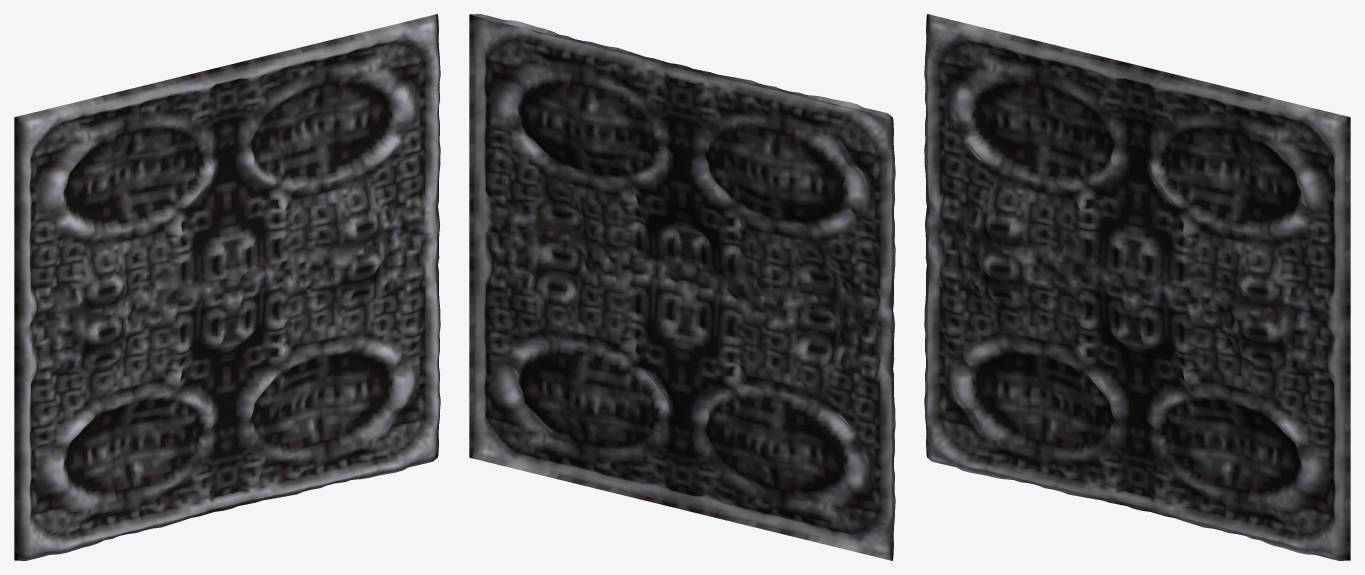
Rendered from bridg1_4.fbx.
3 views of the same model, side by side, from view 1: azimuth 30°, elevation 25°; view 2: azimuth 150°, elevation 25°; view 3: azimuth 330°, elevation 25° (orthographic).
Parts seen in each view (by area): view 1: bridg1_4_mesh; view 2: bridg1_4_mesh; view 3: bridg1_4_mesh.
Part boxes in pixels (left/top/right/bottom): bridg1_4_mesh: left=14, top=14, right=440, bottom=560; bridg1_4_mesh: left=469, top=14, right=895, bottom=560; bridg1_4_mesh: left=924, top=14, right=1350, bottom=560.
Size of the model in its own units: 256 by 256 by 17.98.
